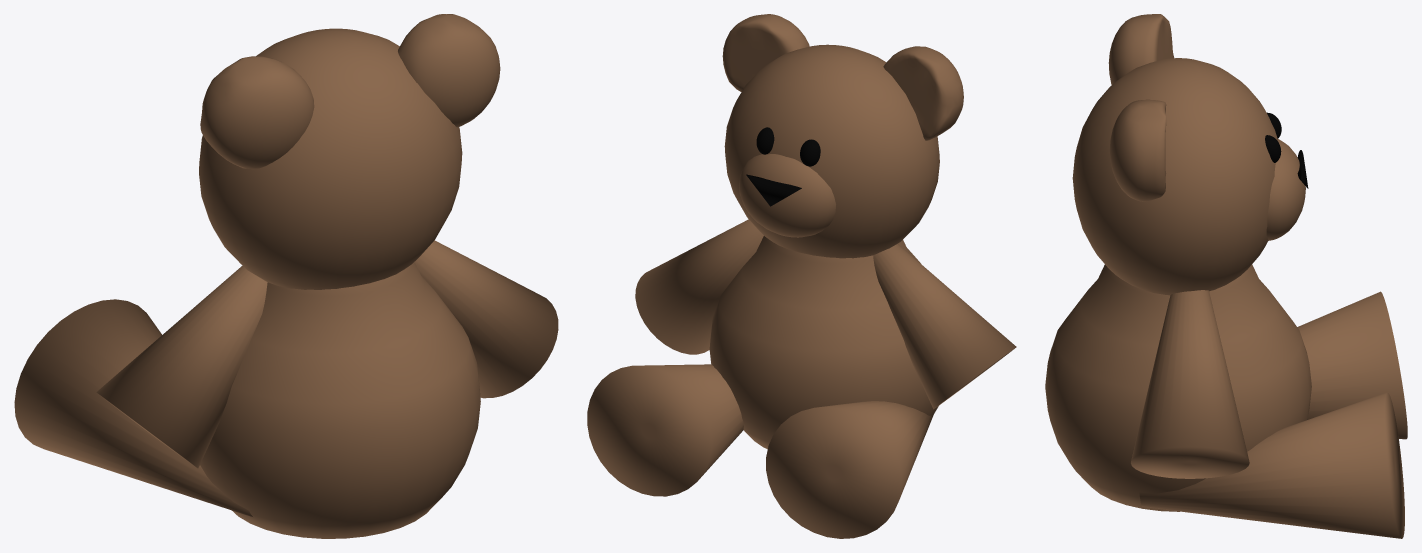
The model's file is Lab3(Bear).glb.
The picture shows the model from 3 angles, left to right: view 1: azimuth 30°, elevation 25°; view 2: azimuth 150°, elevation 25°; view 3: azimuth 270°, elevation 25°; orthographic projection. The views are drawn at different scales.
Visible parts, largest first — view 1: 1.MyBear; view 2: 1.MyBear; view 3: 1.MyBear.
Boxes of the visible parts, bbox=[...] form: 1.MyBear: bbox=[14, 14, 558, 538]; 1.MyBear: bbox=[587, 14, 1016, 538]; 1.MyBear: bbox=[1045, 14, 1407, 538].
Size of the model in its own units: 3.37 by 3.55 by 2.72.
